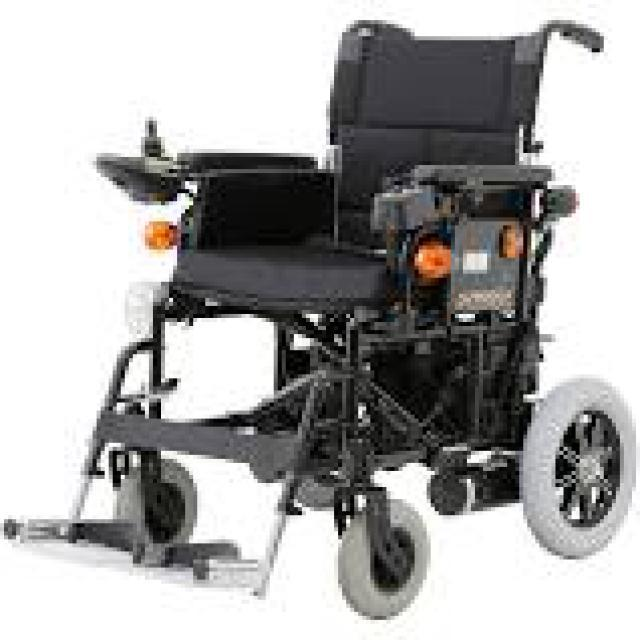wheelchair: (0, 8, 636, 620)
